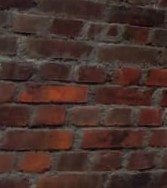brick: (4, 129, 75, 150), (20, 83, 90, 102), (81, 128, 146, 148), (27, 41, 94, 60), (94, 84, 152, 105), (103, 44, 167, 61), (38, 61, 76, 81), (18, 151, 54, 171), (1, 60, 36, 79), (36, 107, 67, 127), (54, 18, 83, 39), (89, 24, 123, 41), (16, 16, 48, 34), (79, 63, 109, 82), (1, 107, 32, 125), (90, 153, 123, 169), (128, 150, 157, 168), (72, 108, 101, 126), (114, 66, 143, 83), (59, 153, 87, 170), (126, 25, 151, 43), (105, 109, 132, 125), (1, 39, 23, 58), (139, 107, 162, 125), (147, 67, 167, 85), (150, 129, 167, 147), (1, 153, 15, 169)
